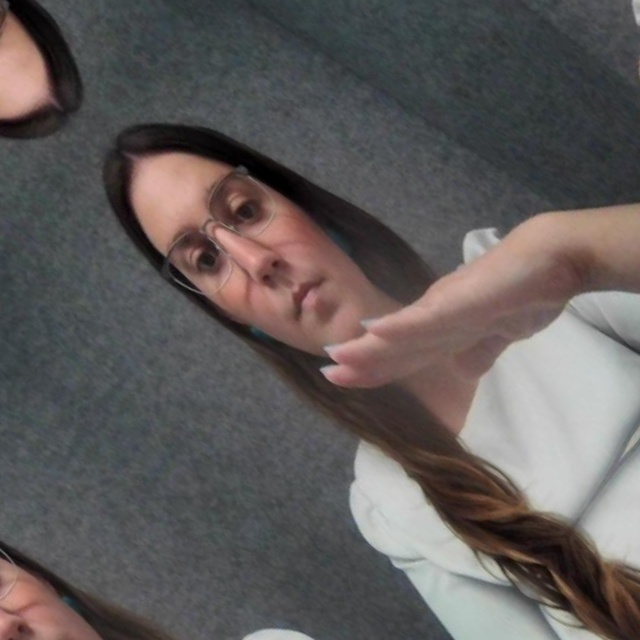Paper: (0, 624, 288, 640)
